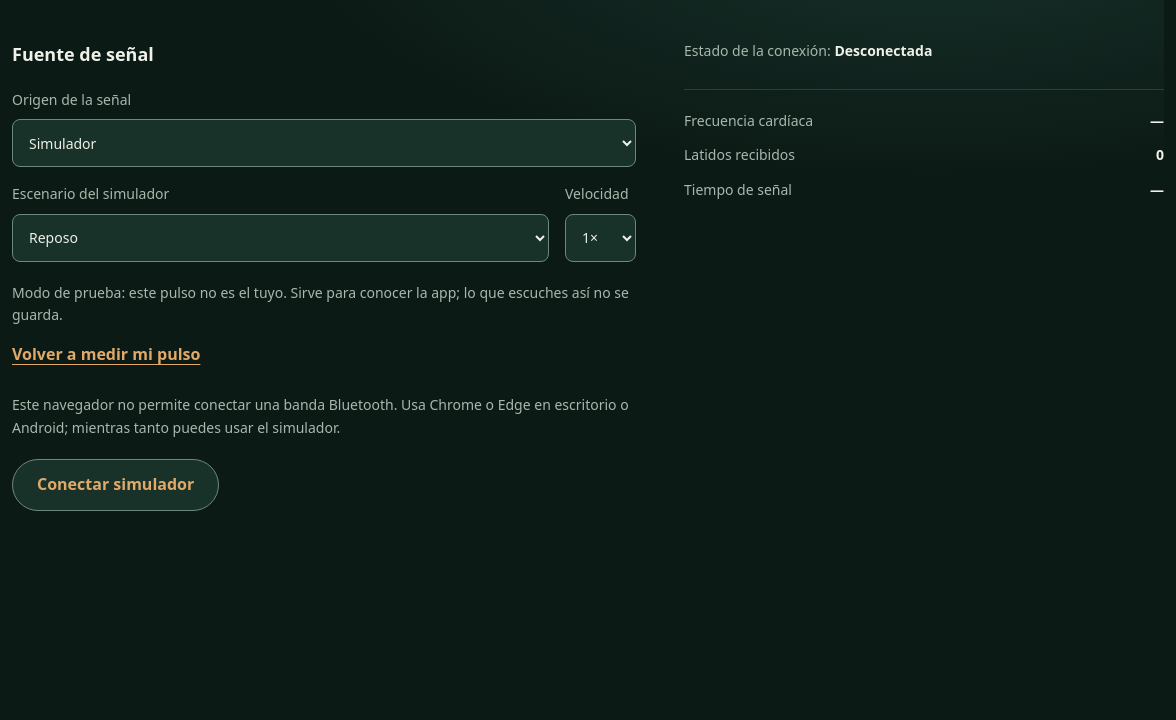
AcquisitionPanel › disconnects, stops the source and re-enables the controls
Click the button "Conectar simulador" at (116, 485), box [12,459,219,511]
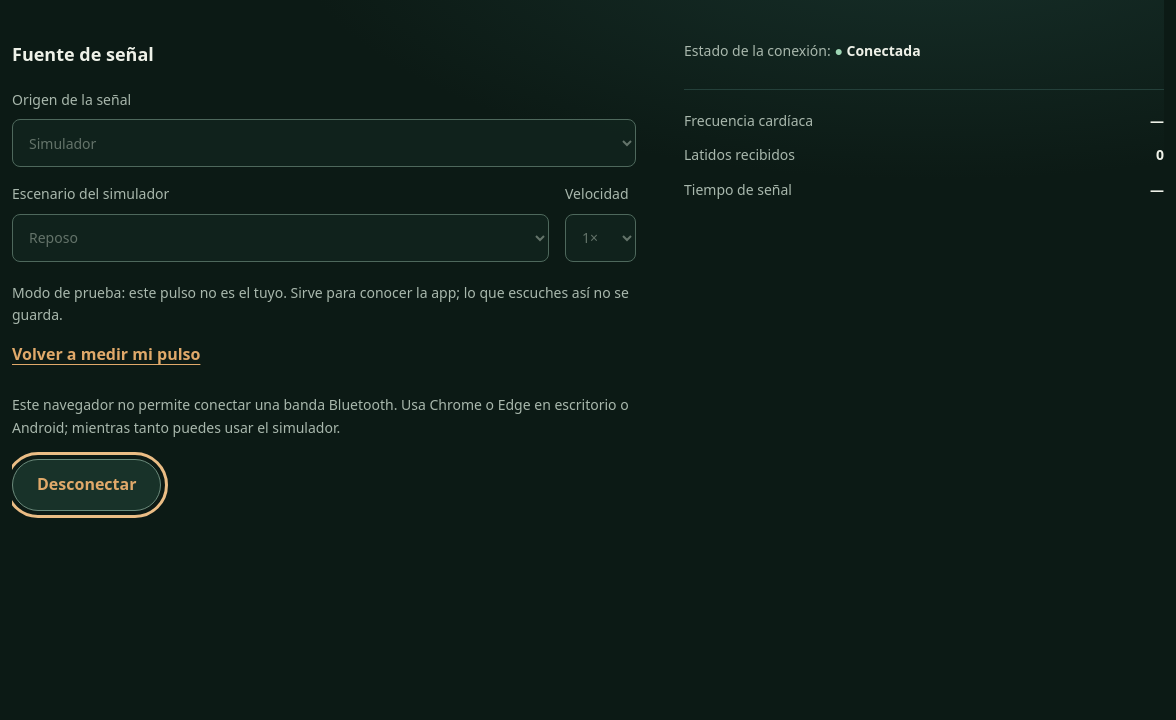
Click the button "Desconectar" at (87, 485), box [12,459,162,511]
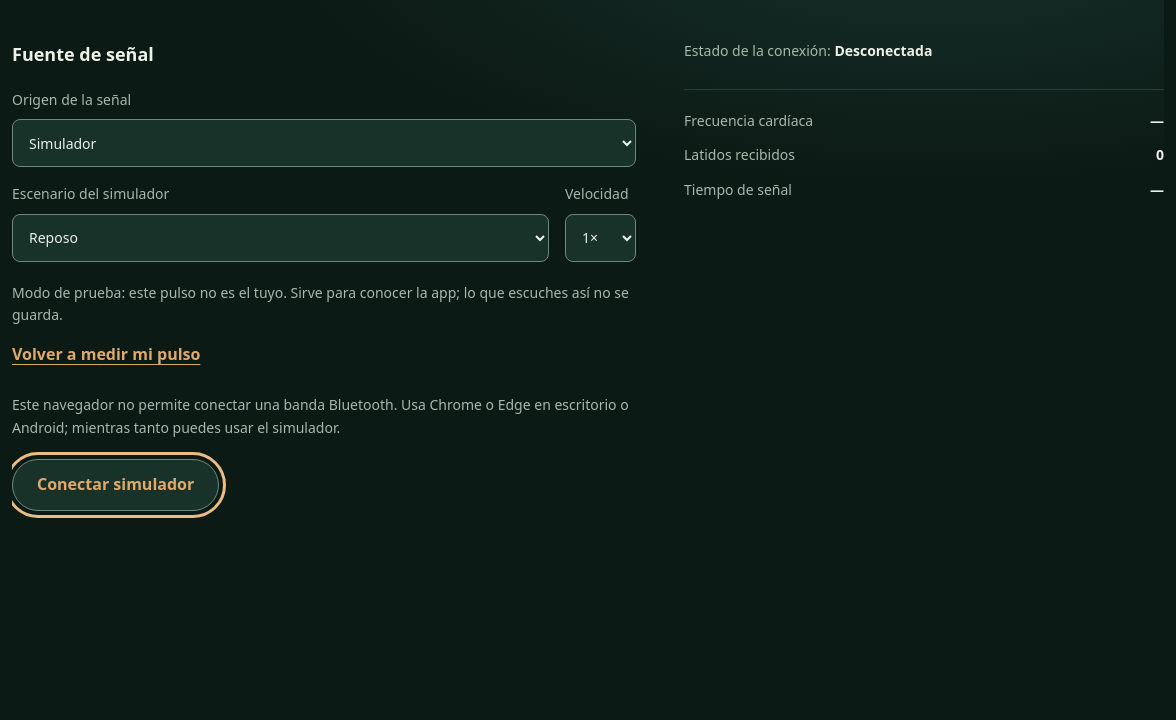
Result: the dropdown labelled "Escenario del simulador" is enabled at [12,214,549,262]
